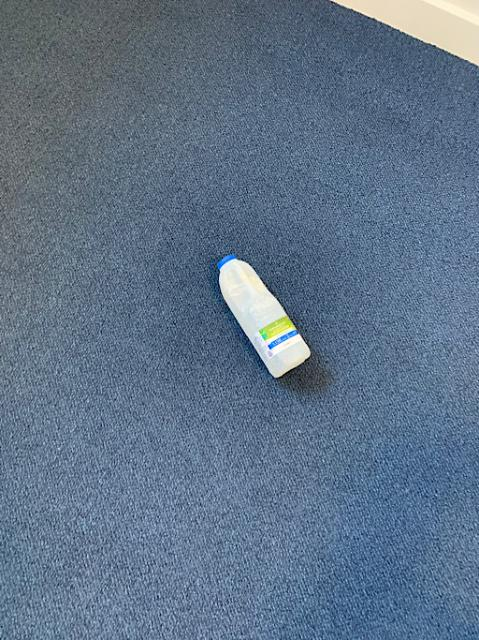plastic: (217, 254, 309, 376)
